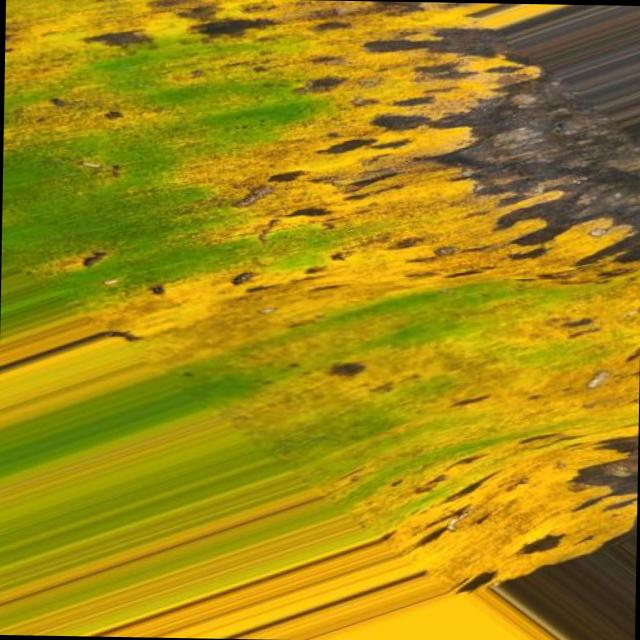Banana_Black_Sigatoka: (98, 0, 640, 263), (262, 279, 640, 579)
